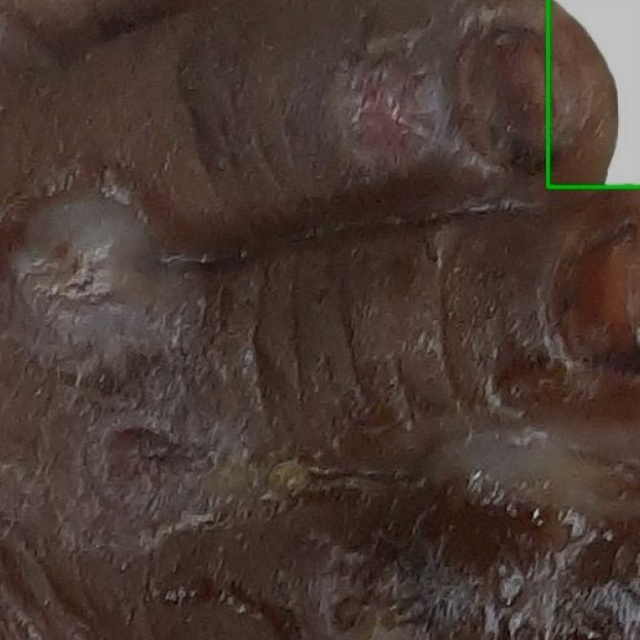Eczema: (548, 0, 639, 186)
